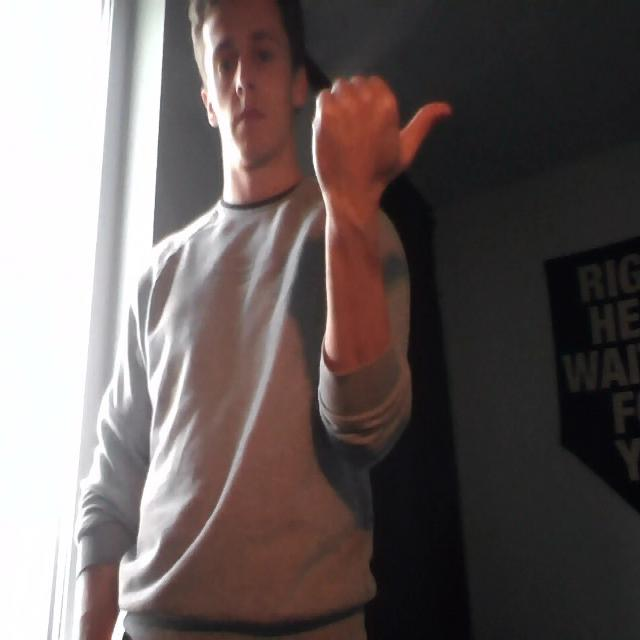right: (299, 61, 462, 214)
